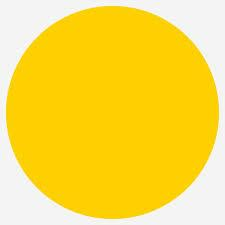yellow_circle: (6, 5, 219, 217)
